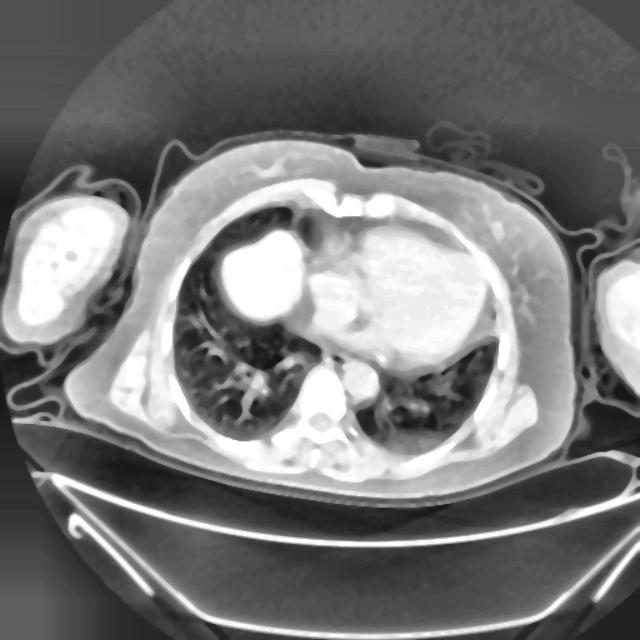covid: (64, 132, 578, 507)
